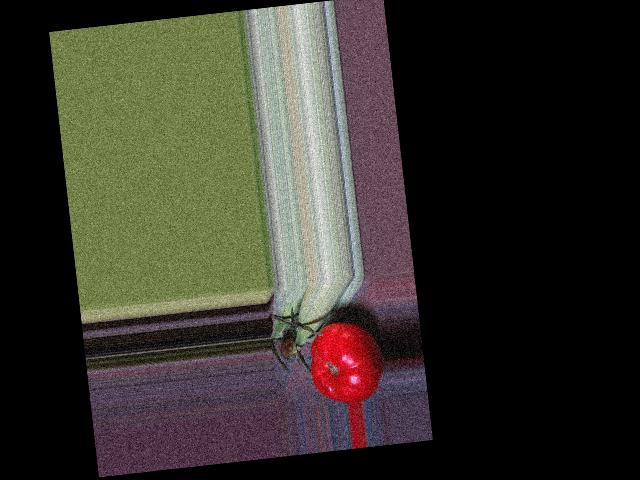tomato: (306, 317, 388, 406)
